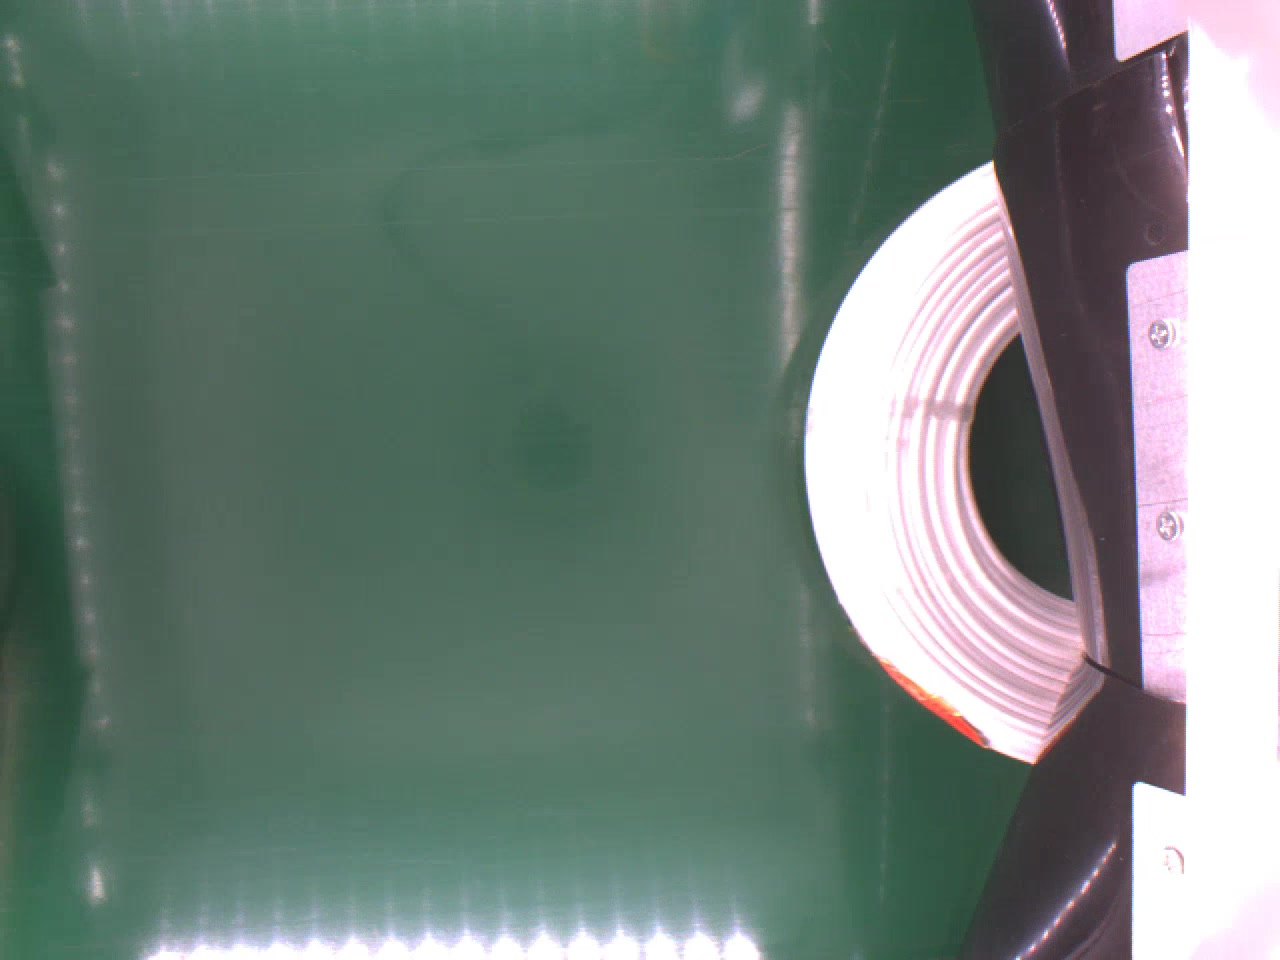white: (795, 159, 1090, 763)
